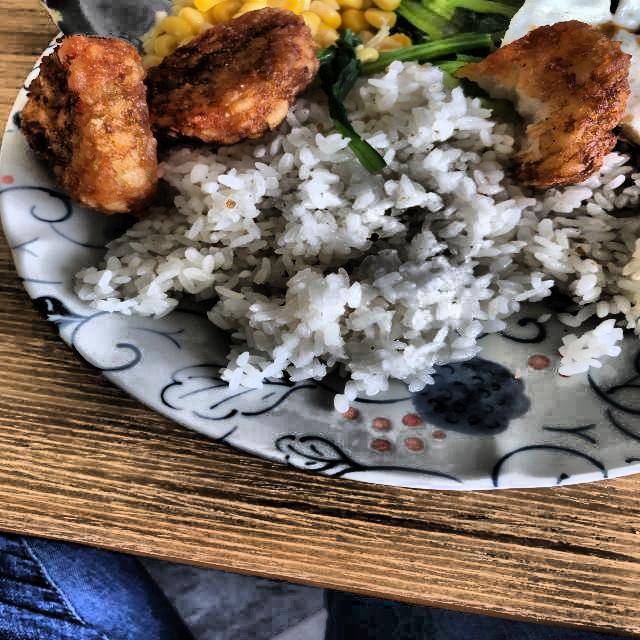Food: (153, 127, 559, 380), (19, 6, 318, 215), (450, 19, 632, 190)
